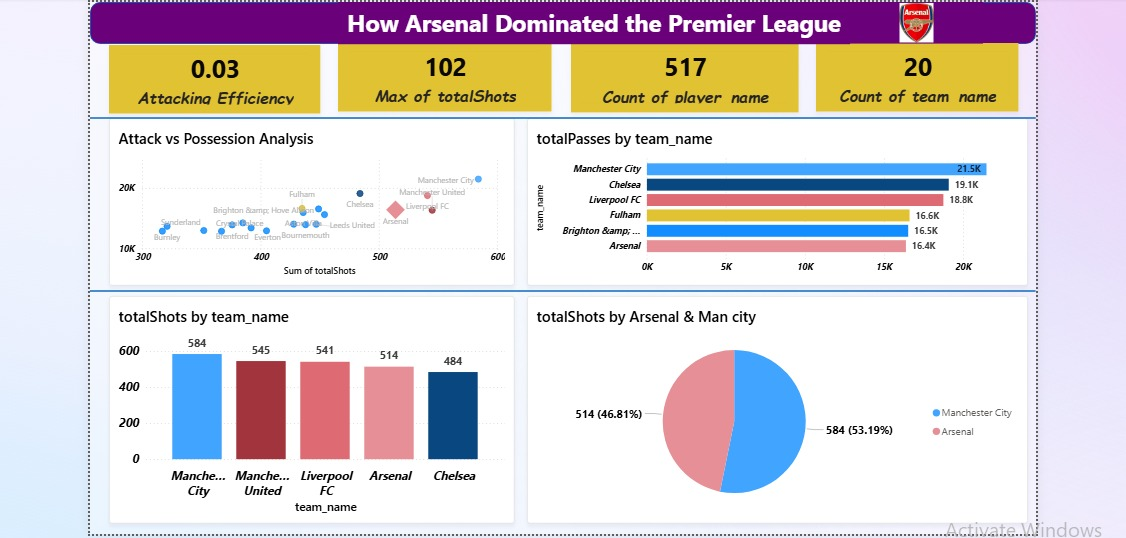

What the dashboard file says about the page in this screenshot:
{"tool":"powerbi","page":{"name":"Team Analysis","canvas":[1280,720],"ordinal":0},"visuals":[{"type":"clusteredColumnChart","title":"totalShots by team_name","fields":{"Category":["epl_team.team_name"],"Y":["Sum(epl_team.totalShots)"]},"box":[25.8,397.3,549,307.9],"z":0},{"type":"clusteredBarChart","title":"totalPasses by team_name","fields":{"Category":["epl_team.team_name"],"Y":["Sum(epl_team.totalPasses)"]},"box":[591.4,157,678,227.4],"z":1000},{"type":"scatterChart","title":"Attack vs Possession Analysis","fields":{"X":["Sum(epl_team.totalShots)"],"Y":["Sum(epl_team.totalPasses)"],"Category":["epl_team.team_name"]},"box":[25.7,157,549.5,227.4],"z":2000},{"type":"shape","box":[0,0,1280.3,56.8],"z":3000},{"type":"shape","box":[0,383.7,1280,13.6],"z":4000},{"type":"pieChart","title":"totalShots by  Arsenal & Man city","fields":{"Y":["Sum(epl_team.totalShots)"],"Category":["epl_team.team_name"]},"box":[591.5,397.3,677.9,307.9],"z":5000},{"type":"cardVisual","fields":{"Data":["epl_team.Efficiency Index"]},"box":[25.7,58.2,286.9,93.4],"z":6000},{"type":"cardVisual","fields":{"Data":["Count(premier_league_complete_stats_until31thGameDayOnSeason2025-26.player_name)"]},"box":[651,55.5,308.6,94.7],"z":7000},{"type":"cardVisual","fields":{"Data":["Count(premier_league_complete_stats_until31thGameDayOnSeason2025-26.team_name)"]},"box":[982.6,55.5,274.7,93.4],"z":8000},{"type":"cardVisual","fields":{"Data":["Max(premier_league_complete_stats_until31thGameDayOnSeason2025-26.totalShots)"]},"box":[335.6,55.5,289.6,93.4],"z":9000},{"type":"textbox","box":[335.6,0,692.9,56.8],"z":10000},{"type":"shape","box":[0,150.2,1280.3,13.5],"z":11000},{"type":"image","box":[1028.2,0,180.5,56.1],"z":12000}]}

Visuals, with their boxes on the page's 1280x720 design canvas (x1, y1, x2, y2). These are canvas units, not pixel positions in the 1126x538 screenshot, which may show the page scaled, cropped or inside an application window:
"totalShots by team_name" clusteredColumnChart: select_region(26, 397, 575, 705)
"totalPasses by team_name" clusteredBarChart: select_region(591, 157, 1269, 384)
"Attack vs Possession Analysis" scatterChart: select_region(26, 157, 575, 384)
shape: select_region(0, 0, 1280, 57)
shape: select_region(0, 384, 1280, 397)
"totalShots by  Arsenal & Man city" pieChart: select_region(592, 397, 1269, 705)
cardVisual - epl_team.Efficiency Index: select_region(26, 58, 313, 152)
cardVisual - Count(premier_league_complete_stats_until31thGameDayOnSeason2025-26.player_name): select_region(651, 56, 960, 150)
cardVisual - Count(premier_league_complete_stats_until31thGameDayOnSeason2025-26.team_name): select_region(983, 56, 1257, 149)
cardVisual - Max(premier_league_complete_stats_until31thGameDayOnSeason2025-26.totalShots): select_region(336, 56, 625, 149)
textbox: select_region(336, 0, 1028, 57)
shape: select_region(0, 150, 1280, 164)
image: select_region(1028, 0, 1209, 56)
